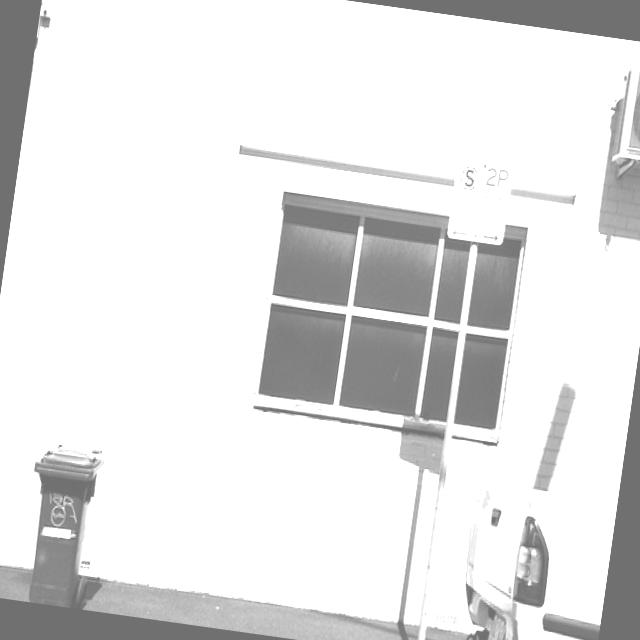Vehicle: (445, 475, 618, 640)
